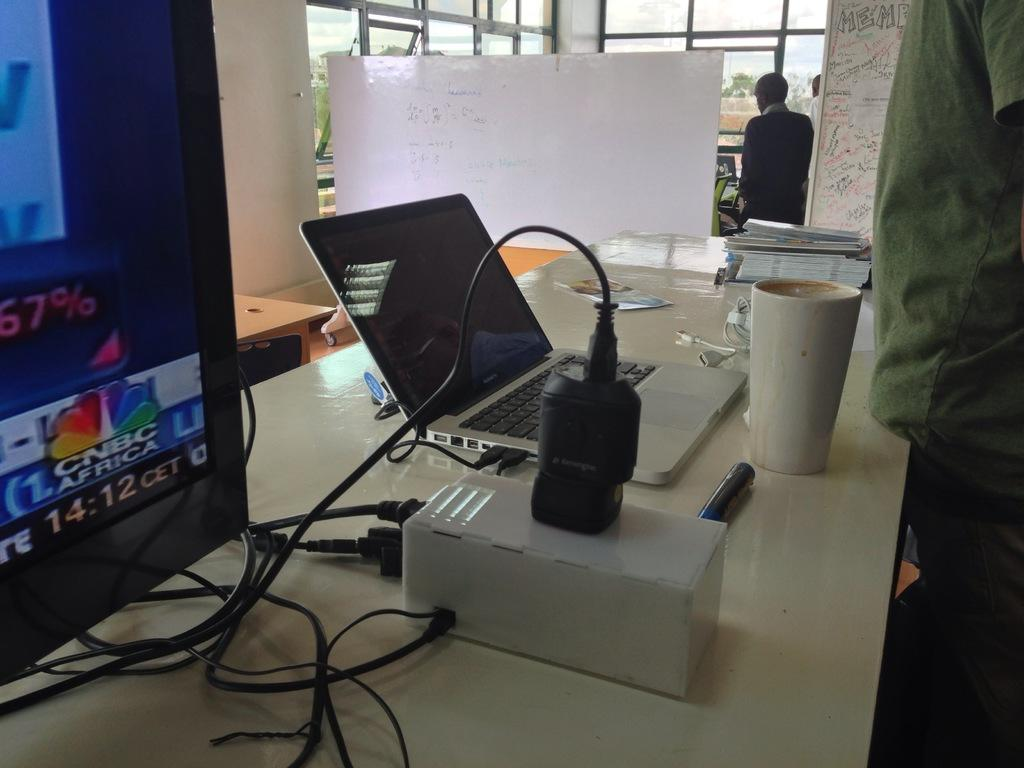Laptop: (295, 193, 746, 488), (715, 154, 740, 188)
